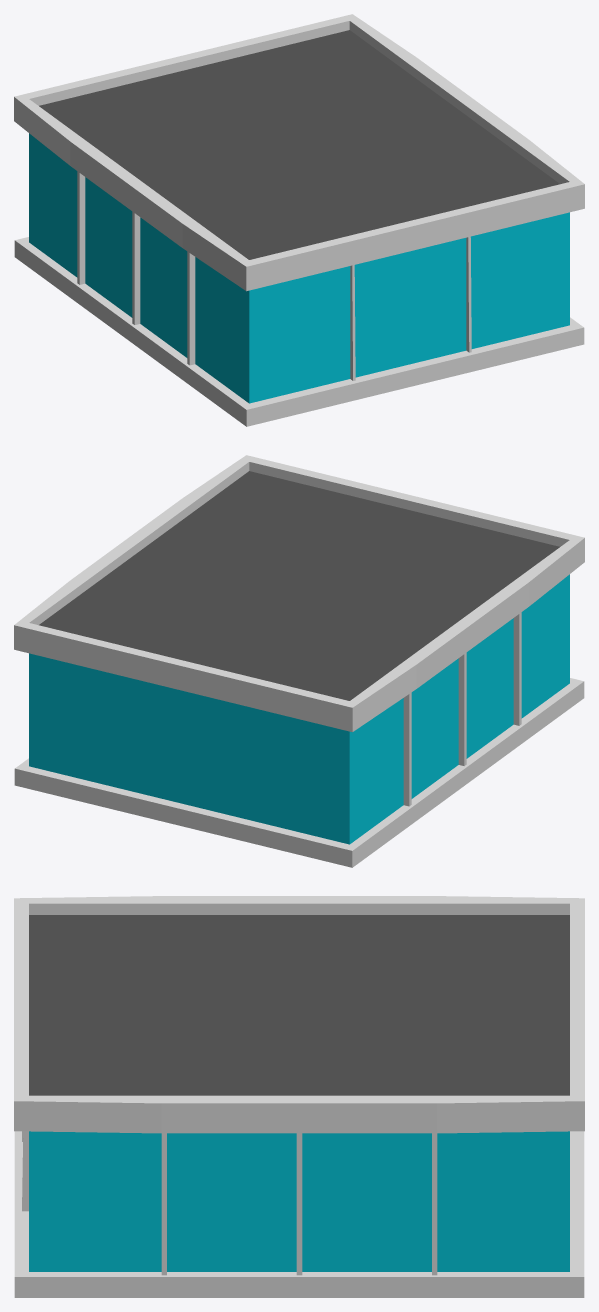
The picture shows the model from 3 angles, top to bottom: view 1: azimuth 30°, elevation 25°; view 2: azimuth 150°, elevation 25°; view 3: azimuth 270°, elevation 25°; orthographic projection. The views are drawn at different scales.
Visible parts, largest first — view 1: Cube.002; view 2: Cube.002; view 3: Cube.002.
Boxes of the visible parts, x1,y1,x2,y2 form: Cube.002: [14, 14, 584, 426]; Cube.002: [14, 455, 584, 867]; Cube.002: [14, 896, 584, 1297].
Bounding box in the file's own units: 338 × 150 × 393.
